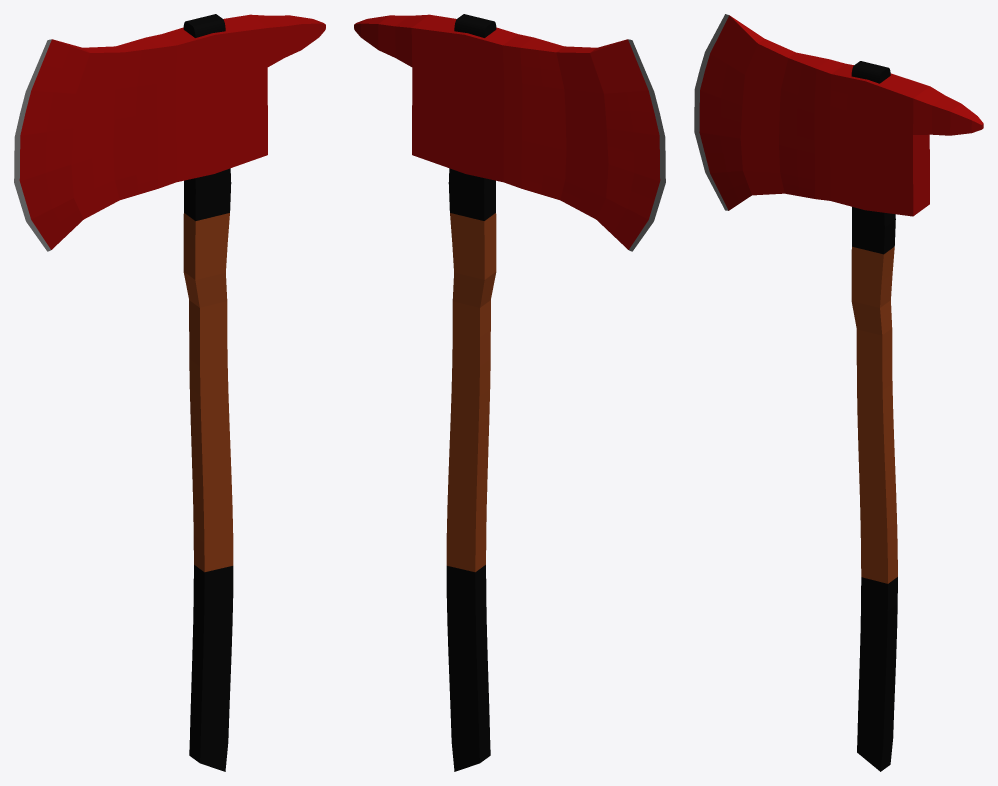
File: Axe.fbx
3 views of the same model, side by side, from view 1: azimuth 30°, elevation 25°; view 2: azimuth 150°, elevation 25°; view 3: azimuth 330°, elevation 25° (orthographic). The views are drawn at different scales.
Visible parts, largest first — view 1: Axe; view 2: Axe; view 3: Axe.
Boxes of the visible parts, <box> form: Axe: <box>14,14,325,771</box>; Axe: <box>354,14,665,771</box>; Axe: <box>694,14,983,771</box>.
Bounding box in the file's own units: 39.49 × 93.56 × 3.98.
